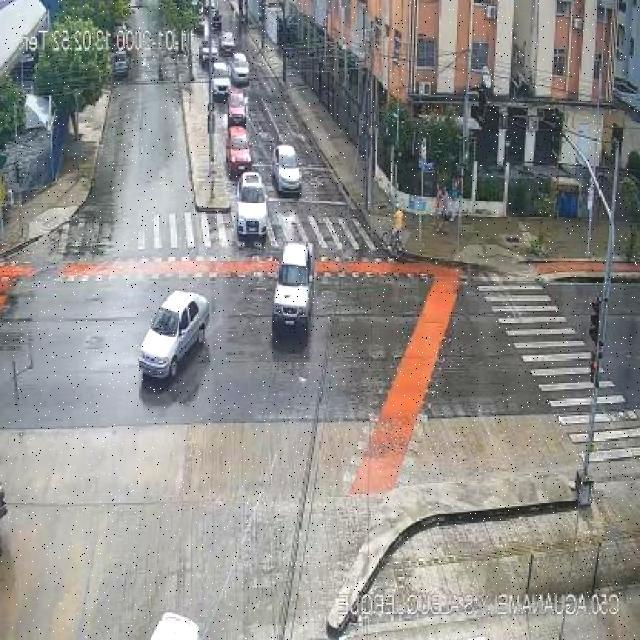Car: (120, 276, 226, 400), (261, 229, 323, 345), (233, 166, 273, 239), (268, 140, 311, 199), (222, 125, 254, 180), (204, 62, 232, 103), (224, 88, 250, 127), (231, 50, 253, 86), (220, 28, 242, 59), (198, 39, 220, 68)
Cycle: (373, 206, 412, 274)
